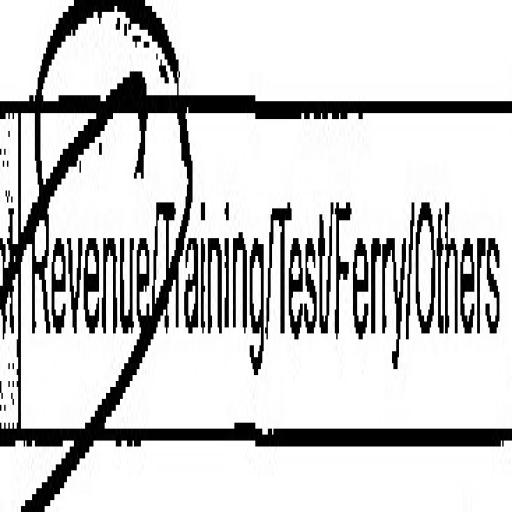check: (0, 0, 160, 512)
